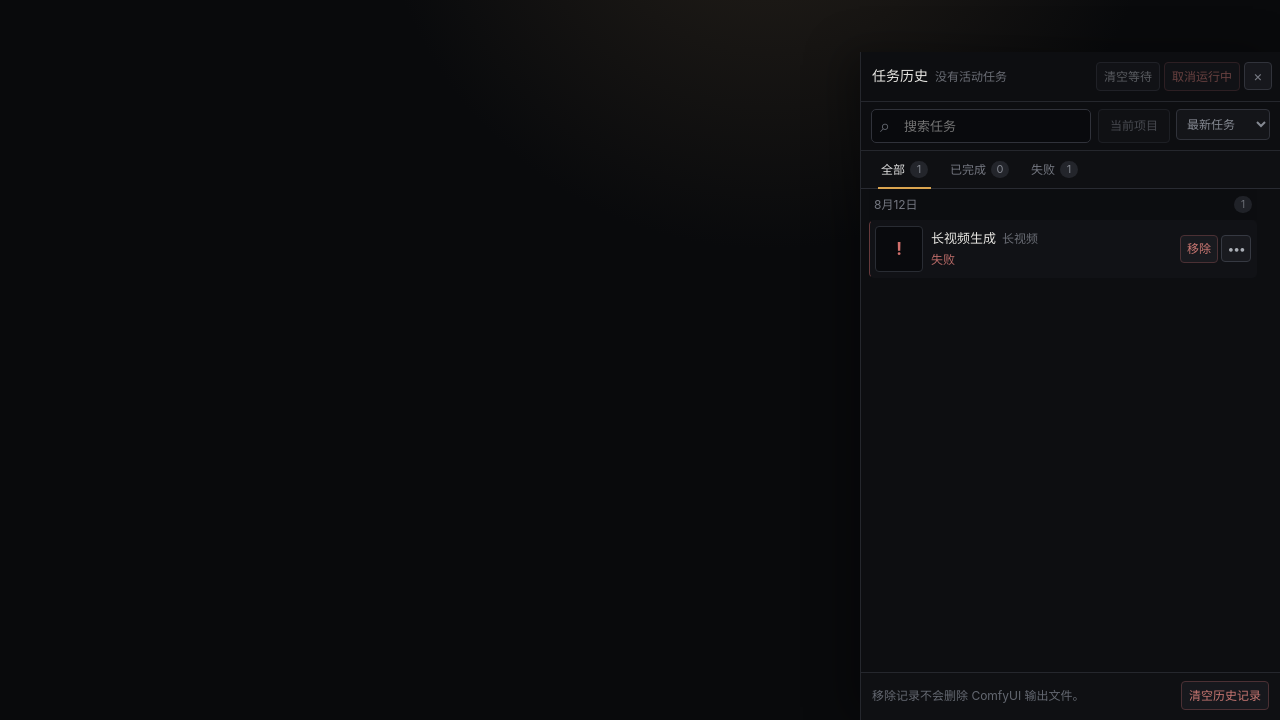
ComfyUI 风格的任务历史抽屉 › 结构化失败在悬停详情和错误对话框中显示中文说明
The image size is (1280, 720).
Hover over the element with class "task-row" at (1063, 249), box [869,220,1257,278]
Wait 200 ms
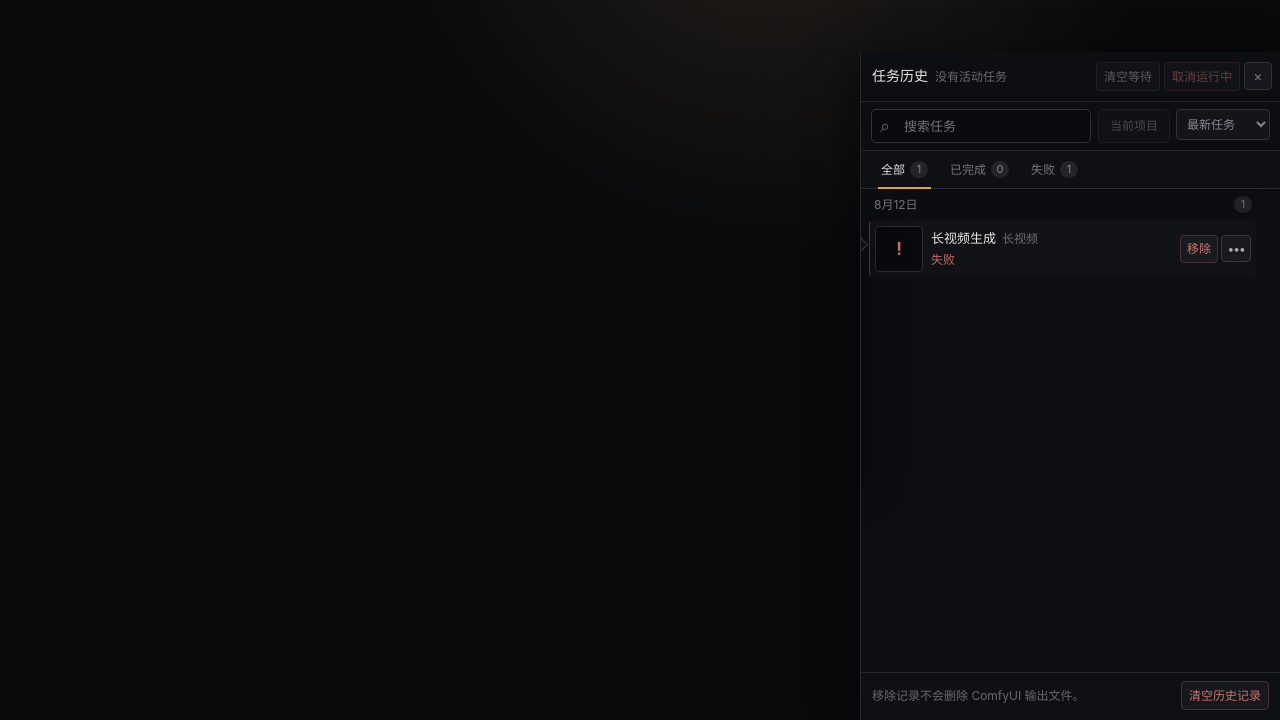
Click the button named "任务 job-stru 的更多操作" at (1236, 249), box [1221,236,1251,262]
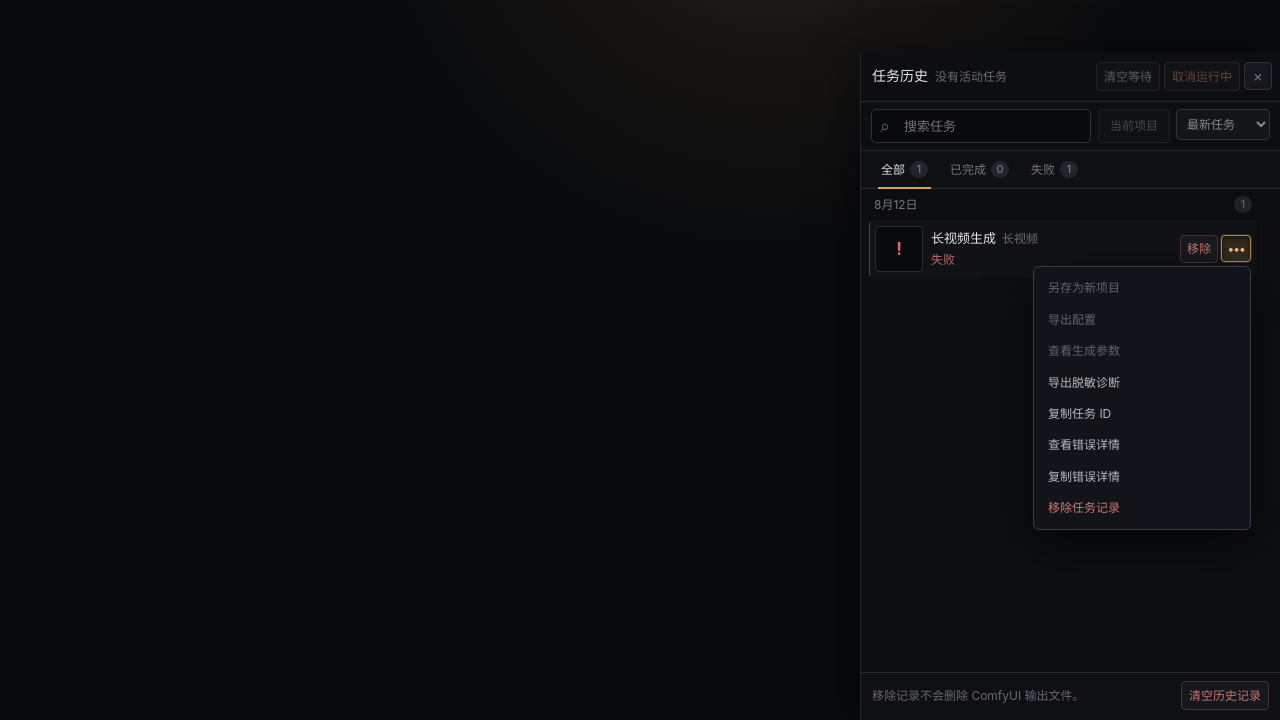
Click the menu item "查看错误详情" at (1142, 445), box [1039,429,1245,461]
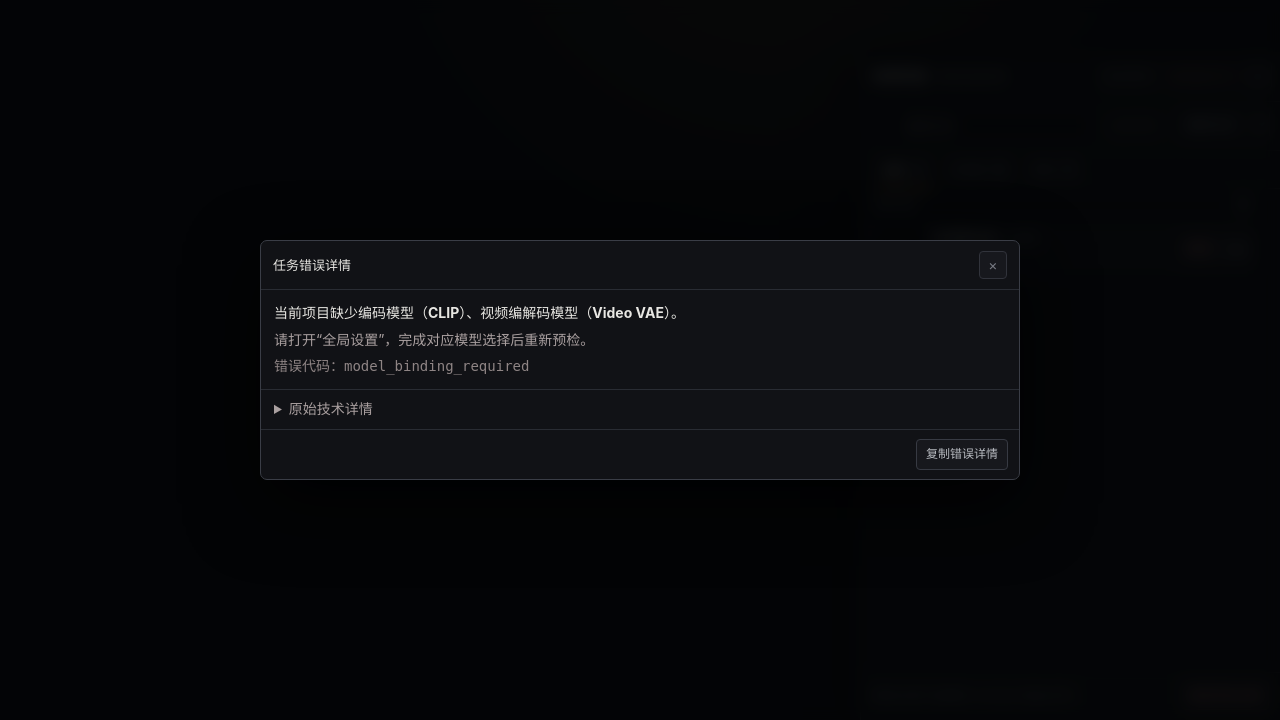
Now the dialog "任务错误详情" shows "当前项目缺少编码模型（CLIP）、视频编解码模型（Video VAE）。", box [274,304,685,321]
Now the dialog "任务错误详情" shows "错误代码：model_binding_required", box [274,358,529,374]
